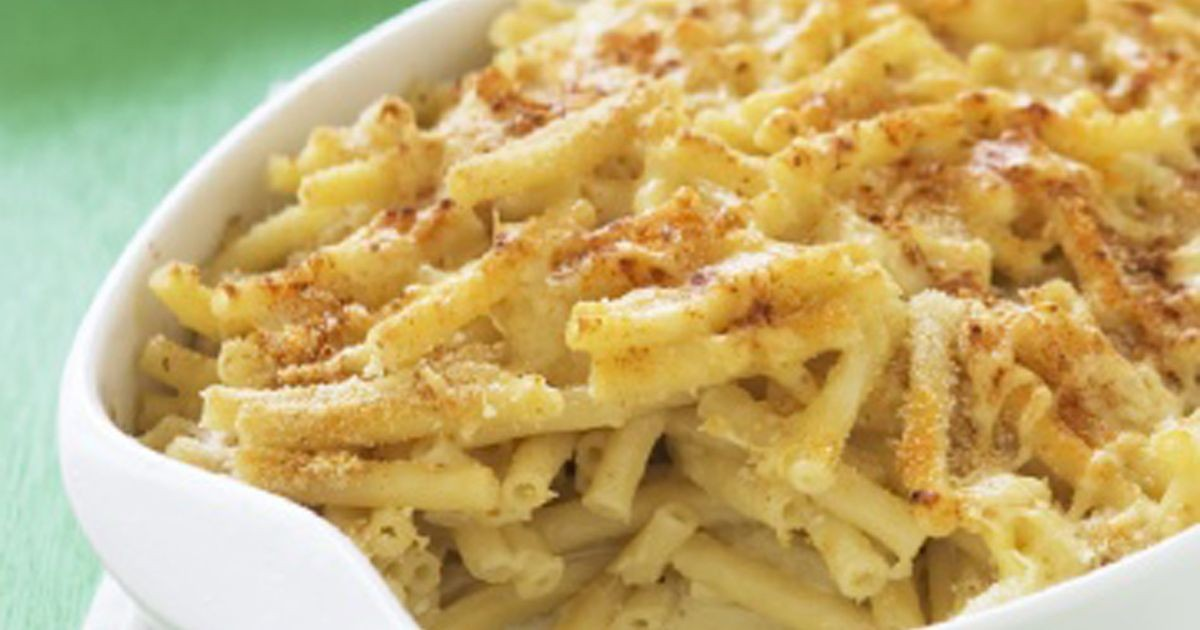macncheese: (219, 180, 937, 629)
